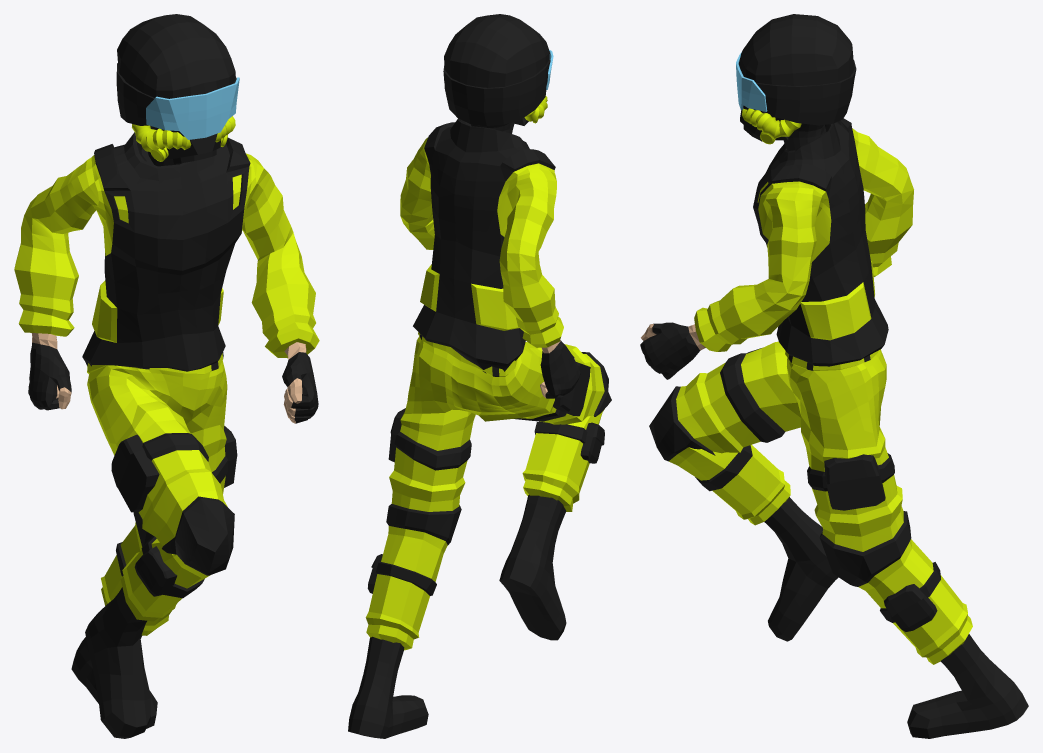
Rendered from av-ciclista-urbano.glb.
3 renders of one model, left to right at view 1: azimuth 30°, elevation 25°; view 2: azimuth 150°, elevation 25°; view 3: azimuth 270°, elevation 25°, orthographic. The views are drawn at different scales.
Visible parts, largest first — view 1: Swat_Body; view 2: Swat_Body; view 3: Swat_Body.
Part boxes in pixels (left/top/right/bottom): Swat_Body: left=14, top=14, right=319, bottom=738; Swat_Body: left=348, top=14, right=611, bottom=738; Swat_Body: left=640, top=14, right=1028, bottom=738.
Bounding box in the file's own units: 0.5609 × 1.77 × 0.8895.
